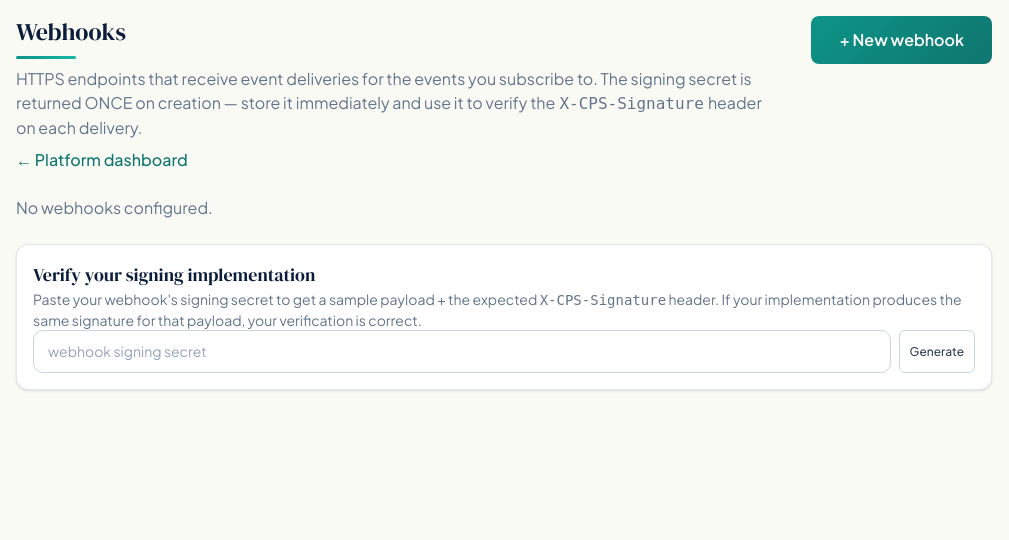
Test: WebhooksPage › runs the signature test helper
Type "whsec_x" into the field with placeholder "webhook signing secret" at (462, 352), box [33,330,891,373]
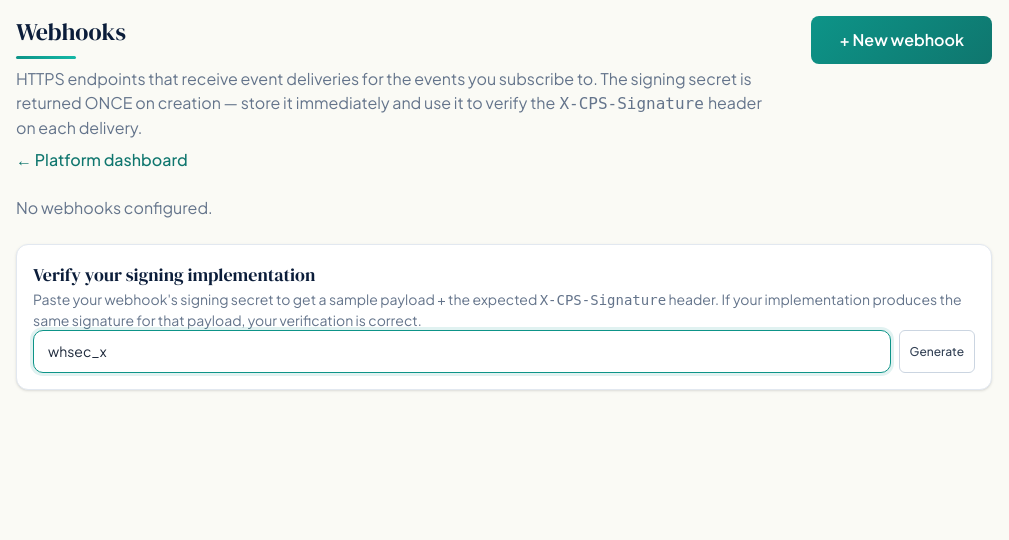
Click the button "Generate" at (937, 352), box [899,330,975,373]
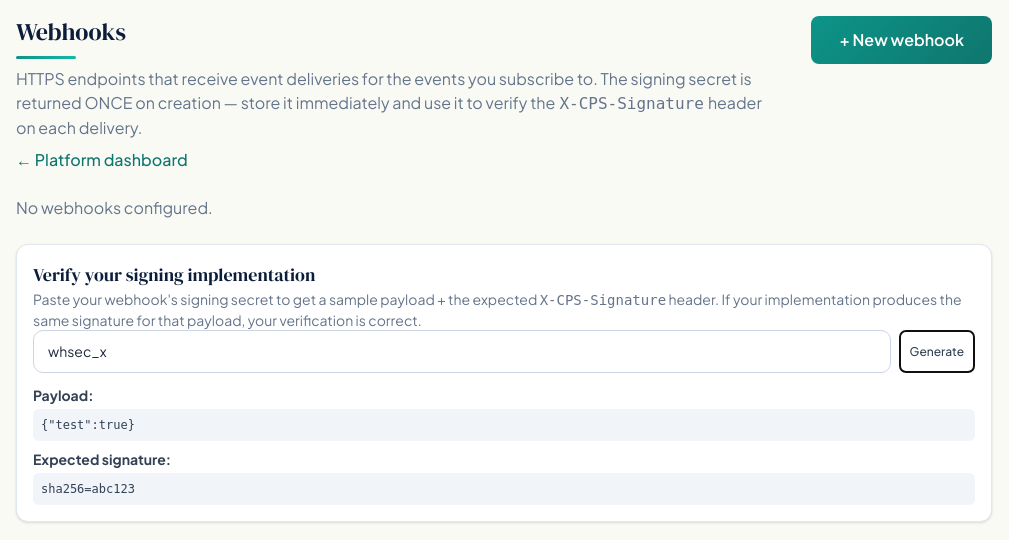
Check: the text "sha256=abc123" is shown, box [33,473,975,505]
